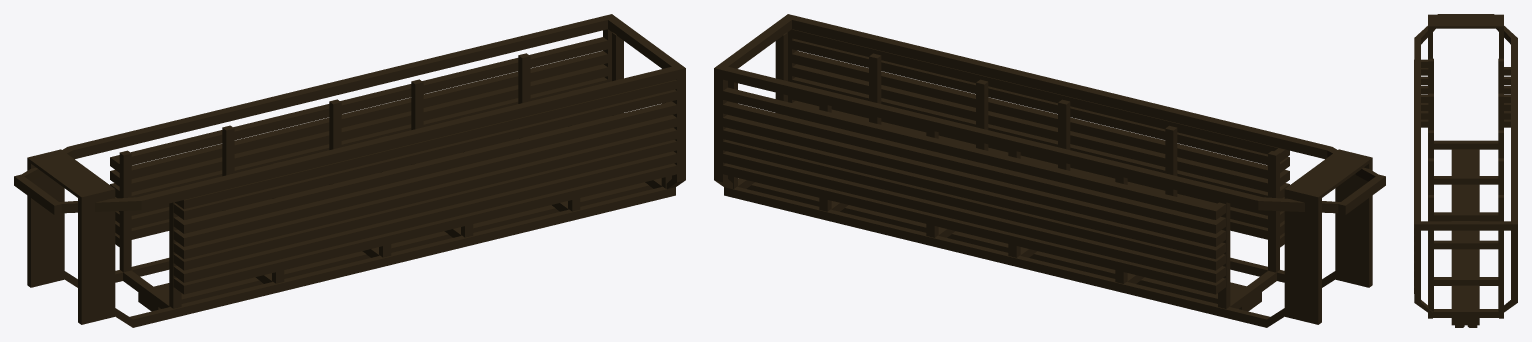
File: pitchAddition.fbx
3 views of the same model, side by side, from view 1: azimuth 30°, elevation 25°; view 2: azimuth 150°, elevation 25°; view 3: azimuth 270°, elevation 25° (orthographic). The views are drawn at different scales.
Visible parts, largest first — view 1: WeaponBase.004; view 2: WeaponBase.004; view 3: WeaponBase.004.
Part boxes in pixels (left/top/right/bottom): WeaponBase.004: left=14, top=14, right=685, bottom=327; WeaponBase.004: left=714, top=14, right=1385, bottom=327; WeaponBase.004: left=1414, top=14, right=1517, bottom=327.
Size of the model in its own units: 79.48 by 19.68 by 16.57.
